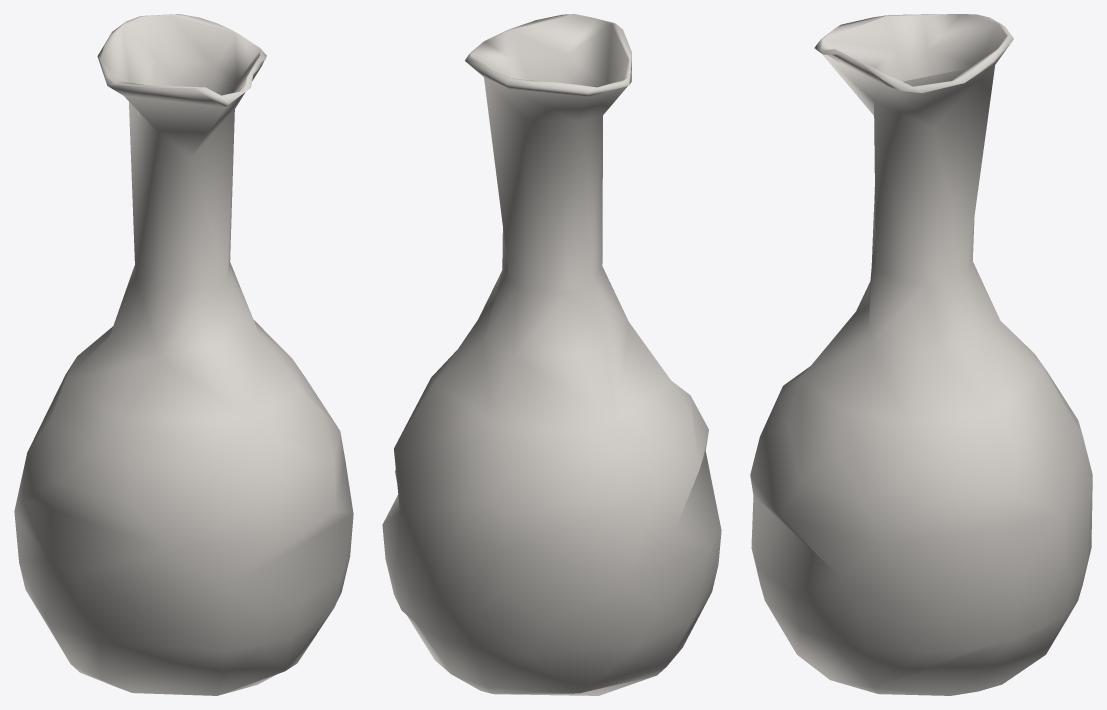
The model's file is ceramic_vase_01.low.glb.
3 views of the same model, side by side, from view 1: azimuth 30°, elevation 25°; view 2: azimuth 150°, elevation 25°; view 3: azimuth 270°, elevation 25° (orthographic).
Parts seen in each view (by area): view 1: body; view 2: body; view 3: body.
Part boxes in pixels (bbox=[...]): body: bbox=[14, 14, 353, 695]; body: bbox=[382, 14, 721, 695]; body: bbox=[750, 14, 1092, 695].
Bounding box in the file's own units: 0.2003 × 0.3998 × 0.2015.
1 material, 1 textured.
